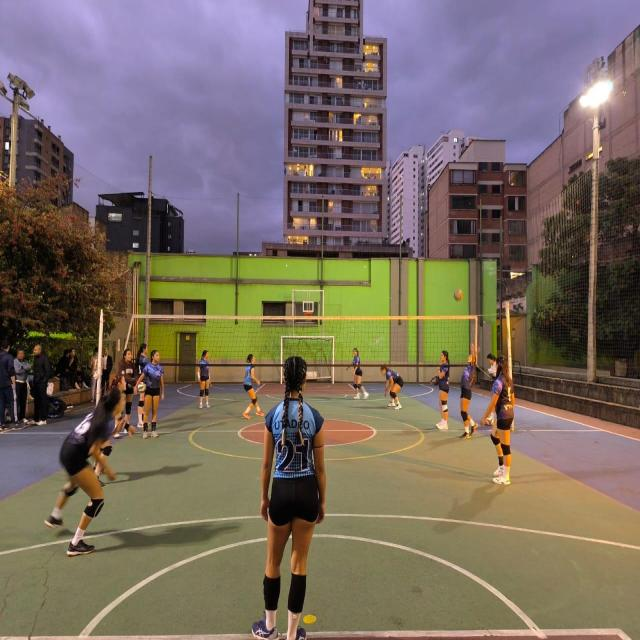volleyball: (454, 288, 462, 302), (137, 382, 146, 393), (486, 416, 494, 425)
